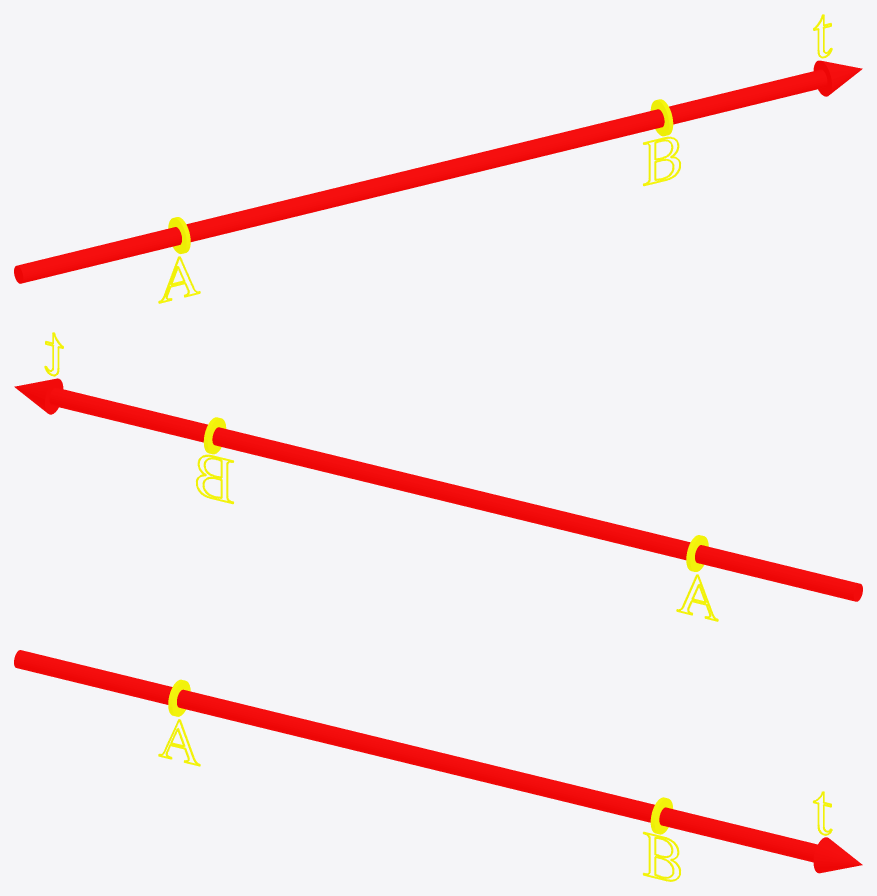
3 renders of one model, top to bottom at view 1: azimuth 30°, elevation 25°; view 2: azimuth 150°, elevation 25°; view 3: azimuth 330°, elevation 25°, orthographic.
Bounding box in the file's own units: 1.05 × 0.1524 × 0.0399.
